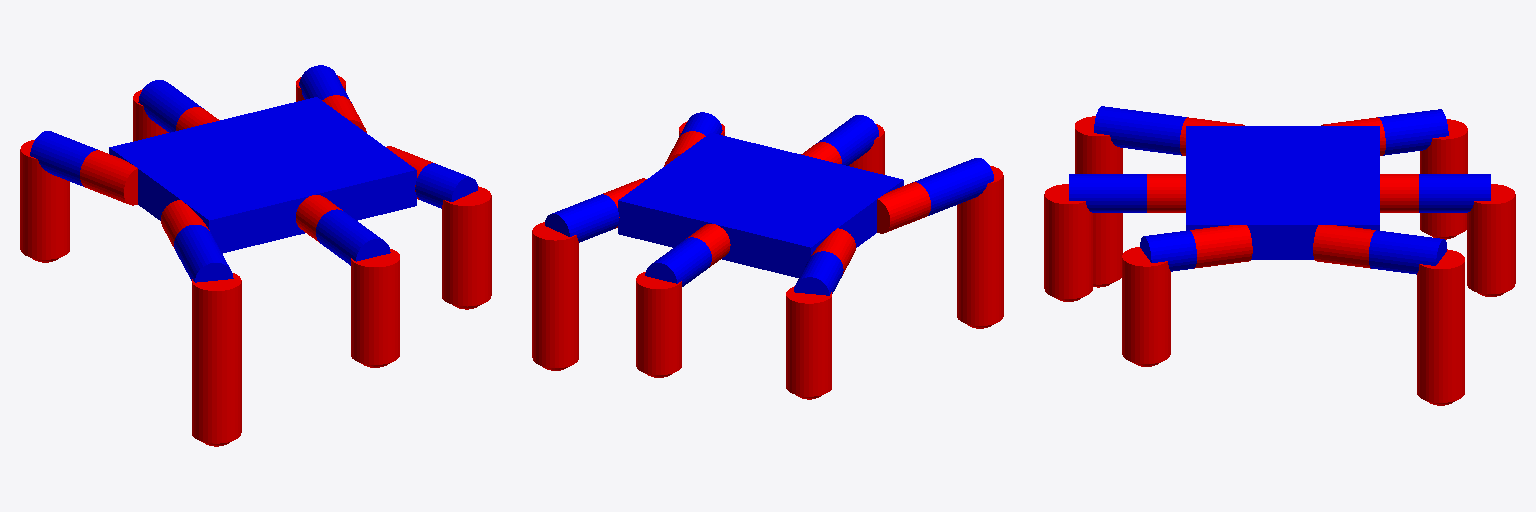
--- What the picture shows (computed from the rendered views, not written in the file) ---
The picture shows the robot from 3 angles, left to right: view 1: azimuth 30°, elevation 25°; view 2: azimuth 150°, elevation 25°; view 3: azimuth 270°, elevation 25°; orthographic projection.
Model pexod with 19 links and 18 joints (18 revolute), rooted at base_link, posed all joints at 0.
Links seen in each view (by area): view 1: base_link, leg_5_3, leg_3_3, leg_4_3, leg_0_3, leg_4_2, leg_5_2, leg_0_1, leg_0_2, leg_3_2, leg_1_2, leg_2_2 (+5 smaller); view 2: base_link, leg_2_3, leg_5_3, leg_0_3, leg_1_3, leg_5_2, leg_2_2, leg_1_2, leg_5_1, leg_4_2, leg_0_2, leg_0_1 (+3 smaller); view 3: base_link, leg_2_3, leg_3_3, leg_4_3, leg_1_3, leg_5_3, leg_5_2, leg_0_3, leg_4_2, leg_2_2, leg_1_2, leg_0_2 (+5 smaller).
Link boxes in pixels (bbox=[...]): base_link: bbox=[109, 97, 416, 253]; leg_5_3: bbox=[192, 273, 241, 446]; leg_3_3: bbox=[442, 186, 491, 309]; leg_4_3: bbox=[351, 249, 399, 367]; leg_0_3: bbox=[20, 140, 69, 262]; leg_4_2: bbox=[316, 209, 390, 265]; leg_5_2: bbox=[174, 225, 233, 282]; leg_0_1: bbox=[80, 150, 137, 205]; leg_0_2: bbox=[30, 131, 97, 186]; leg_3_2: bbox=[415, 163, 477, 208]; leg_1_2: bbox=[138, 80, 203, 132]; leg_2_2: bbox=[299, 65, 351, 102]; base_link: bbox=[618, 133, 903, 277]; leg_2_3: bbox=[532, 222, 578, 370]; leg_5_3: bbox=[957, 166, 1003, 328]; leg_0_3: bbox=[786, 286, 831, 399]; leg_1_3: bbox=[636, 272, 681, 377]; leg_5_2: bbox=[912, 158, 993, 215]; leg_2_2: bbox=[545, 194, 618, 242]; leg_1_2: bbox=[645, 237, 711, 286]; leg_5_1: bbox=[877, 182, 930, 233]; leg_4_2: bbox=[816, 115, 878, 165]; leg_0_2: bbox=[794, 251, 843, 295]; leg_0_1: bbox=[811, 228, 855, 275]; base_link: bbox=[1186, 126, 1379, 259]; leg_2_3: bbox=[1417, 249, 1464, 405]; leg_3_3: bbox=[1122, 247, 1170, 366]; leg_4_3: bbox=[1044, 184, 1092, 301]; leg_1_3: bbox=[1467, 184, 1515, 296]; leg_5_3: bbox=[1075, 116, 1122, 287]; leg_5_2: bbox=[1094, 106, 1186, 155]; leg_0_3: bbox=[1420, 119, 1467, 239]; leg_4_2: bbox=[1069, 174, 1146, 212]; leg_2_2: bbox=[1369, 230, 1446, 274]; leg_1_2: bbox=[1419, 174, 1490, 212]; leg_0_2: bbox=[1378, 109, 1448, 155].
Bounding box of the posed robot: 0.3742 × 0.4855 × 0.2009 m (x, y, z).
Geometry: primitives only (box / cylinder / sphere), no mesh files.

URDF robot description (pexod):
<?xml version="1.0" ?>
<!-- =================================================================================== -->
<!-- |    This document was autogenerated by xacro from pexod.xacro                    | -->
<!-- |    EDITING THIS FILE BY HAND IS NOT RECOMMENDED                                 | -->
<!-- =================================================================================== -->
<robot name="pexod" xmlns:xacro="http://www.ros.org/wiki/xacro">
  <!-- <xacro:include filename="$(find pexod_description)/urdf/pexod_control.xacro" /> -->
  <!-- MATERIALS -->
  <material name="Blue">
    <color rgba="0 0 1 1"/>
  </material>
  <material name="Red">
    <color rgba="1 0 0 1"/>
  </material>
  <material name="Green">
    <color rgba="0 1 0 1"/>
  </material>
  <material name="Yellow">
    <color rgba="1 1 0 1"/>
  </material>
  <material name="LightGrey">
    <color rgba="0.6 0.6 0.6 1.0"/>
  </material>
  <!-- END OF MATERIALS -->
  <!-- XACRO MACROS FOR VISUALS AND COLLISIONS -->
  <!-- END OF XACRO MACROS -->
  <!-- TORSO -->
  <link name="base_link">
    <visual>
      <origin rpy="0 0 0" xyz="0 0 0"/>
      <geometry>
        <box size="0.24 0.2 0.04"/>
      </geometry>
      <material name="Blue"/>
    </visual>
    <collision>
      <origin rpy="0 0 0" xyz="0 0 0"/>
      <geometry>
        <box size="0.24 0.2 0.04"/>
      </geometry>
    </collision>
    <inertial>
      <!-- CENTER OF MASS -->
      <origin rpy="0 0 0" xyz="0 0 0"/>
      <mass value="1.031"/>
      <!-- box inertia: 1/12*m(y^2+z^2), ... -->
      <inertia ixx="0.00357413333333" ixy="0" ixz="0" iyy="0.00508626666667" iyz="0" izz="0.00838546666667"/>
    </inertial>
  </link>
  <!-- XACRO MACRO FOR LEGS LINKS/JOINTS -->
  <!-- END OF LEG LINKS/JOINTS -->
  <joint name="body_leg_2" type="revolute">
    <parent link="base_link"/>
    <child link="leg_2_1"/>
    <limit effort="30.0" lower="-1.57079632679" upper="1.57079632679" velocity="7.0"/>
    <origin rpy="0 0 -0.3" xyz="0.11 0.04 0"/>
    <!-- <xacro:if value="${index == 5 or index == 4 or index == 3}">
                <axis xyz="0 0 1"/>
            </xacro:if>
            <xacro:if value="${index == 2 or index == 1 or index == 0}"> -->
    <axis xyz="0 0 1"/>
    <!-- </xacro:if> -->
    <dynamics damping="0.0"/>
  </joint>
  <link name="leg_2_1">
    <visual>
      <origin rpy="1.57079632679 0 0" xyz="0.01 0.03 0"/>
      <geometry>
        <cylinder length="0.06" radius="0.02"/>
      </geometry>
      <material name="Red"/>
    </visual>
    <collision>
      <origin rpy="1.57079632679 0 0" xyz="0.01 0.03 0"/>
      <geometry>
        <box size="0.02 0.02 0.06"/>
      </geometry>
    </collision>
    <inertial>
      <!-- CENTER OF MASS -->
      <origin rpy="1.57079632679 0 0" xyz="0.01 0.03 0"/>
      <mass value="0.02"/>
      <!-- box inertia: 1/12*m(y^2+z^2), ... -->
      <inertia ixx="6.66666666667e-06" ixy="0" ixz="0" iyy="6.66666666667e-06" iyz="0" izz="1.33333333333e-06"/>
    </inertial>
  </link>
  <joint name="leg_2_1_2" type="revolute">
    <parent link="leg_2_1"/>
    <child link="leg_2_2"/>
    <limit effort="30.0" lower="-0.78539816339" upper="0.78539816339" velocity="7.0"/>
    <origin rpy="0 0 0" xyz="0 0.06 0"/>
    <axis xyz="1 0 0"/>
    <dynamics damping="0.0"/>
  </joint>
  <link name="leg_2_2">
    <visual>
      <origin rpy="1.57079632679 0 0" xyz="0.01 0.0363041409389 0"/>
      <geometry>
        <cylinder length="0.0726082818779" radius="0.02"/>
      </geometry>
      <material name="Blue"/>
    </visual>
    <collision>
      <origin rpy="1.57079632679 0 0" xyz="0.01 0.0363041409389 0"/>
      <geometry>
        <box size="0.02 0.02 0.0726082818779"/>
      </geometry>
    </collision>
    <inertial>
      <!-- CENTER OF MASS -->
      <origin rpy="1.57079632679 0 0" xyz="0.01 0.0363041409389 0"/>
      <mass value="0.184"/>
      <!-- box inertia: 1/12*m(y^2+z^2), ... -->
      <inertia ixx="8.6970093158e-05" ixy="0" ixz="0" iyy="8.6970093158e-05" iyz="0" izz="1.22666666667e-05"/>
    </inertial>
  </link>
  <joint name="leg_2_2_3" type="revolute">
    <parent link="leg_2_2"/>
    <child link="leg_2_3"/>
    <limit effort="30.0" lower="-0.78539816339" upper="0.78539816339" velocity="7.0"/>
    <origin rpy="-1.57079632679 0 0" xyz="0 0.0726082818779 0"/>
    <axis xyz="-1 0 0"/>
    <dynamics damping="0.0"/>
  </joint>
  <link name="leg_2_3">
    <visual>
      <origin rpy="1.57079632679 0 0" xyz="0.0125 0.0758680258845 0"/>
      <geometry>
        <cylinder length="0.151736051769" radius="0.025"/>
      </geometry>
      <material name="Red"/>
    </visual>
    <visual>
      <origin rpy="1.57079632679 0 0" xyz="0.0125 0.139236051769 0"/>
      <geometry>
        <sphere radius="0.025"/>
      </geometry>
      <material name="Red"/>
    </visual>
    <collision>
      <origin rpy="1.57079632679 0 0" xyz="0.0125 0.0758680258845 0"/>
      <geometry>
        <box size="0.025 0.025 0.151736051769"/>
      </geometry>
    </collision>
    <collision>
      <origin rpy="1.57079632679 0 0" xyz="0.0125 0.139236051769 0"/>
      <geometry>
        <sphere radius="0.025"/>
      </geometry>
      <material name="Red"/>
    </collision>
    <inertial>
      <!-- CENTER OF MASS -->
      <origin rpy="1.57079632679 0 0" xyz="0.0125 0.0758680258845 0"/>
      <mass value="0.04"/>
      <!-- box inertia: 1/12*m(y^2+z^2), ... -->
      <inertia ixx="7.88294313548e-05" ixy="0" ixz="0" iyy="7.88294313548e-05" iyz="0" izz="4.16666666667e-06"/>
    </inertial>
  </link>
  <joint name="body_leg_3" type="revolute">
    <parent link="base_link"/>
    <child link="leg_3_1"/>
    <limit effort="30.0" lower="-1.57079632679" upper="1.57079632679" velocity="7.0"/>
    <origin rpy="0 0 0.3" xyz="0.11 -0.04 0"/>
    <!-- <xacro:if value="${index == 5 or index == 4 or index == 3}">
                <axis xyz="0 0 1"/>
            </xacro:if>
            <xacro:if value="${index == 2 or index == 1 or index == 0}"> -->
    <axis xyz="0 0 1"/>
    <!-- </xacro:if> -->
    <dynamics damping="0.0"/>
  </joint>
  <link name="leg_3_1">
    <visual>
      <origin rpy="1.57079632679 0 0" xyz="0.01 -0.03 0"/>
      <geometry>
        <cylinder length="0.06" radius="0.02"/>
      </geometry>
      <material name="Red"/>
    </visual>
    <collision>
      <origin rpy="1.57079632679 0 0" xyz="0.01 -0.03 0"/>
      <geometry>
        <box size="0.02 0.02 0.06"/>
      </geometry>
    </collision>
    <inertial>
      <!-- CENTER OF MASS -->
      <origin rpy="1.57079632679 0 0" xyz="0.01 -0.03 0"/>
      <mass value="0.02"/>
      <!-- box inertia: 1/12*m(y^2+z^2), ... -->
      <inertia ixx="6.66666666667e-06" ixy="0" ixz="0" iyy="6.66666666667e-06" iyz="0" izz="1.33333333333e-06"/>
    </inertial>
  </link>
  <joint name="leg_3_1_2" type="revolute">
    <parent link="leg_3_1"/>
    <child link="leg_3_2"/>
    <limit effort="30.0" lower="-0.78539816339" upper="0.78539816339" velocity="7.0"/>
    <origin rpy="0 0 0" xyz="0 -0.06 0"/>
    <axis xyz="-1 0 0"/>
    <dynamics damping="0.0"/>
  </joint>
  <link name="leg_3_2">
    <visual>
      <origin rpy="1.57079632679 0 0" xyz="0.01 -0.0244976712076 0"/>
      <geometry>
        <cylinder length="0.0489953424151" radius="0.02"/>
      </geometry>
      <material name="Blue"/>
    </visual>
    <collision>
      <origin rpy="1.57079632679 0 0" xyz="0.01 -0.0244976712076 0"/>
      <geometry>
        <box size="0.02 0.02 0.0489953424151"/>
      </geometry>
    </collision>
    <inertial>
      <!-- CENTER OF MASS -->
      <origin rpy="1.57079632679 0 0" xyz="0.01 -0.0244976712076 0"/>
      <mass value="0.184"/>
      <!-- box inertia: 1/12*m(y^2+z^2), ... -->
      <inertia ixx="4.29416682017e-05" ixy="0" ixz="0" iyy="4.29416682017e-05" iyz="0" izz="1.22666666667e-05"/>
    </inertial>
  </link>
  <joint name="leg_3_2_3" type="revolute">
    <parent link="leg_3_2"/>
    <child link="leg_3_3"/>
    <limit effort="30.0" lower="-0.78539816339" upper="0.78539816339" velocity="7.0"/>
    <origin rpy="1.57079632679 0 0" xyz="0 -0.0489953424151 0"/>
    <axis xyz="1 0 0"/>
    <dynamics damping="0.0"/>
  </joint>
  <link name="leg_3_3">
    <visual>
      <origin rpy="1.57079632679 0 0" xyz="0.0125 -0.055430716345 0"/>
      <geometry>
        <cylinder length="0.11086143269" radius="0.025"/>
      </geometry>
      <material name="Red"/>
    </visual>
    <visual>
      <origin rpy="1.57079632679 0 0" xyz="0.0125 -0.09836143269 0"/>
      <geometry>
        <sphere radius="0.025"/>
      </geometry>
      <material name="Red"/>
    </visual>
    <collision>
      <origin rpy="1.57079632679 0 0" xyz="0.0125 -0.055430716345 0"/>
      <geometry>
        <box size="0.025 0.025 0.11086143269"/>
      </geometry>
    </collision>
    <collision>
      <origin rpy="1.57079632679 0 0" xyz="0.0125 -0.09836143269 0"/>
      <geometry>
        <sphere radius="0.025"/>
      </geometry>
      <material name="Red"/>
    </collision>
    <inertial>
      <!-- CENTER OF MASS -->
      <origin rpy="1.57079632679 0 0" xyz="0.0125 -0.055430716345 0"/>
      <mass value="0.04"/>
      <!-- box inertia: 1/12*m(y^2+z^2), ... -->
      <inertia ixx="4.30508575269e-05" ixy="0" ixz="0" iyy="4.30508575269e-05" iyz="0" izz="4.16666666667e-06"/>
    </inertial>
  </link>
  <joint name="body_leg_0" type="revolute">
    <parent link="base_link"/>
    <child link="leg_0_1"/>
    <limit effort="30.0" lower="-1.57079632679" upper="1.57079632679" velocity="7.0"/>
    <origin rpy="0 0 0.3" xyz="-0.13 0.04 0"/>
    <!-- <xacro:if value="${index == 5 or index == 4 or index == 3}">
                <axis xyz="0 0 1"/>
            </xacro:if>
            <xacro:if value="${index == 2 or index == 1 or index == 0}"> -->
    <axis xyz="0 0 1"/>
    <!-- </xacro:if> -->
    <dynamics damping="0.0"/>
  </joint>
  <link name="leg_0_1">
    <visual>
      <origin rpy="1.57079632679 0 0" xyz="0.01 0.03 0"/>
      <geometry>
        <cylinder length="0.06" radius="0.02"/>
      </geometry>
      <material name="Red"/>
    </visual>
    <collision>
      <origin rpy="1.57079632679 0 0" xyz="0.01 0.03 0"/>
      <geometry>
        <box size="0.02 0.02 0.06"/>
      </geometry>
    </collision>
    <inertial>
      <!-- CENTER OF MASS -->
      <origin rpy="1.57079632679 0 0" xyz="0.01 0.03 0"/>
      <mass value="0.02"/>
      <!-- box inertia: 1/12*m(y^2+z^2), ... -->
      <inertia ixx="6.66666666667e-06" ixy="0" ixz="0" iyy="6.66666666667e-06" iyz="0" izz="1.33333333333e-06"/>
    </inertial>
  </link>
  <joint name="leg_0_1_2" type="revolute">
    <parent link="leg_0_1"/>
    <child link="leg_0_2"/>
    <limit effort="30.0" lower="-0.78539816339" upper="0.78539816339" velocity="7.0"/>
    <origin rpy="0 0 0" xyz="0 0.06 0"/>
    <axis xyz="1 0 0"/>
    <dynamics damping="0.0"/>
  </joint>
  <link name="leg_0_2">
    <visual>
      <origin rpy="1.57079632679 0 0" xyz="0.01 0.0338924185121 0"/>
      <geometry>
        <cylinder length="0.0677848370243" radius="0.02"/>
      </geometry>
      <material name="Blue"/>
    </visual>
    <collision>
      <origin rpy="1.57079632679 0 0" xyz="0.01 0.0338924185121 0"/>
      <geometry>
        <box size="0.02 0.02 0.0677848370243"/>
      </geometry>
    </collision>
    <inertial>
      <!-- CENTER OF MASS -->
      <origin rpy="1.57079632679 0 0" xyz="0.01 0.0338924185121 0"/>
      <mass value="0.184"/>
      <!-- box inertia: 1/12*m(y^2+z^2), ... -->
      <inertia ixx="7.65866899996e-05" ixy="0" ixz="0" iyy="7.65866899996e-05" iyz="0" izz="1.22666666667e-05"/>
    </inertial>
  </link>
  <joint name="leg_0_2_3" type="revolute">
    <parent link="leg_0_2"/>
    <child link="leg_0_3"/>
    <limit effort="30.0" lower="-0.78539816339" upper="0.78539816339" velocity="7.0"/>
    <origin rpy="-1.57079632679 0 0" xyz="0 0.0677848370243 0"/>
    <axis xyz="-1 0 0"/>
    <dynamics damping="0.0"/>
  </joint>
  <link name="leg_0_3">
    <visual>
      <origin rpy="1.57079632679 0 0" xyz="0.0125 0.055295891619 0"/>
      <geometry>
        <cylinder length="0.110591783238" radius="0.025"/>
      </geometry>
      <material name="Red"/>
    </visual>
    <visual>
      <origin rpy="1.57079632679 0 0" xyz="0.0125 0.098091783238 0"/>
      <geometry>
        <sphere radius="0.025"/>
      </geometry>
      <material name="Red"/>
    </visual>
    <collision>
      <origin rpy="1.57079632679 0 0" xyz="0.0125 0.055295891619 0"/>
      <geometry>
        <box size="0.025 0.025 0.110591783238"/>
      </geometry>
    </collision>
    <collision>
      <origin rpy="1.57079632679 0 0" xyz="0.0125 0.098091783238 0"/>
      <geometry>
        <sphere radius="0.025"/>
      </geometry>
      <material name="Red"/>
    </collision>
    <inertial>
      <!-- CENTER OF MASS -->
      <origin rpy="1.57079632679 0 0" xyz="0.0125 0.055295891619 0"/>
      <mass value="0.04"/>
      <!-- box inertia: 1/12*m(y^2+z^2), ... -->
      <inertia ixx="4.28518083992e-05" ixy="0" ixz="0" iyy="4.28518083992e-05" iyz="0" izz="4.16666666667e-06"/>
    </inertial>
  </link>
  <joint name="body_leg_5" type="revolute">
    <parent link="base_link"/>
    <child link="leg_5_1"/>
    <limit effort="30.0" lower="-1.57079632679" upper="1.57079632679" velocity="7.0"/>
    <origin rpy="0 0 -0.3" xyz="-0.13 -0.04 0"/>
    <!-- <xacro:if value="${index == 5 or index == 4 or index == 3}">
                <axis xyz="0 0 1"/>
            </xacro:if>
            <xacro:if value="${index == 2 or index == 1 or index == 0}"> -->
    <axis xyz="0 0 1"/>
    <!-- </xacro:if> -->
    <dynamics damping="0.0"/>
  </joint>
  <link name="leg_5_1">
    <visual>
      <origin rpy="1.57079632679 0 0" xyz="0.01 -0.03 0"/>
      <geometry>
        <cylinder length="0.06" radius="0.02"/>
      </geometry>
      <material name="Red"/>
    </visual>
    <collision>
      <origin rpy="1.57079632679 0 0" xyz="0.01 -0.03 0"/>
      <geometry>
        <box size="0.02 0.02 0.06"/>
      </geometry>
    </collision>
    <inertial>
      <!-- CENTER OF MASS -->
      <origin rpy="1.57079632679 0 0" xyz="0.01 -0.03 0"/>
      <mass value="0.02"/>
      <!-- box inertia: 1/12*m(y^2+z^2), ... -->
      <inertia ixx="6.66666666667e-06" ixy="0" ixz="0" iyy="6.66666666667e-06" iyz="0" izz="1.33333333333e-06"/>
    </inertial>
  </link>
  <joint name="leg_5_1_2" type="revolute">
    <parent link="leg_5_1"/>
    <child link="leg_5_2"/>
    <limit effort="30.0" lower="-0.78539816339" upper="0.78539816339" velocity="7.0"/>
    <origin rpy="0 0 0" xyz="0 -0.06 0"/>
    <axis xyz="-1 0 0"/>
    <dynamics damping="0.0"/>
  </joint>
  <link name="leg_5_2">
    <visual>
      <origin rpy="1.57079632679 0 0" xyz="0.01 -0.0464353477643 0"/>
      <geometry>
        <cylinder length="0.0928706955286" radius="0.02"/>
      </geometry>
      <material name="Blue"/>
    </visual>
    <collision>
      <origin rpy="1.57079632679 0 0" xyz="0.01 -0.0464353477643 0"/>
      <geometry>
        <box size="0.02 0.02 0.0928706955286"/>
      </geometry>
    </collision>
    <inertial>
      <!-- CENTER OF MASS -->
      <origin rpy="1.57079632679 0 0" xyz="0.01 -0.0464353477643 0"/>
      <mass value="0.184"/>
      <!-- box inertia: 1/12*m(y^2+z^2), ... -->
      <inertia ixx="0.000138382813349" ixy="0" ixz="0" iyy="0.000138382813349" iyz="0" izz="1.22666666667e-05"/>
    </inertial>
  </link>
  <joint name="leg_5_2_3" type="revolute">
    <parent link="leg_5_2"/>
    <child link="leg_5_3"/>
    <limit effort="30.0" lower="-0.78539816339" upper="0.78539816339" velocity="7.0"/>
    <origin rpy="1.57079632679 0 0" xyz="0 -0.0928706955286 0"/>
    <axis xyz="1 0 0"/>
    <dynamics damping="0.0"/>
  </joint>
  <link name="leg_5_3">
    <visual>
      <origin rpy="1.57079632679 0 0" xyz="0.0125 -0.084187610104 0"/>
      <geometry>
        <cylinder length="0.168375220208" radius="0.025"/>
      </geometry>
      <material name="Red"/>
    </visual>
    <visual>
      <origin rpy="1.57079632679 0 0" xyz="0.0125 -0.155875220208 0"/>
      <geometry>
        <sphere radius="0.025"/>
      </geometry>
      <material name="Red"/>
    </visual>
    <collision>
      <origin rpy="1.57079632679 0 0" xyz="0.0125 -0.084187610104 0"/>
      <geometry>
        <box size="0.025 0.025 0.168375220208"/>
      </geometry>
    </collision>
    <collision>
      <origin rpy="1.57079632679 0 0" xyz="0.0125 -0.155875220208 0"/>
      <geometry>
        <sphere radius="0.025"/>
      </geometry>
      <material name="Red"/>
    </collision>
    <inertial>
      <!-- CENTER OF MASS -->
      <origin rpy="1.57079632679 0 0" xyz="0.0125 -0.084187610104 0"/>
      <mass value="0.04"/>
      <!-- box inertia: 1/12*m(y^2+z^2), ... -->
      <inertia ixx="9.6584049267e-05" ixy="0" ixz="0" iyy="9.6584049267e-05" iyz="0" izz="4.16666666667e-06"/>
    </inertial>
  </link>
  <joint name="body_leg_1" type="revolute">
    <parent link="base_link"/>
    <child link="leg_1_1"/>
    <limit effort="30.0" lower="-1.57079632679" upper="1.57079632679" velocity="7.0"/>
    <origin rpy="0 0 0" xyz="-0.01 0.08 0"/>
    <!-- <xacro:if value="${index == 5 or index == 4 or index == 3}">
                <axis xyz="0 0 1"/>
            </xacro:if>
            <xacro:if value="${index == 2 or index == 1 or index == 0}"> -->
    <axis xyz="0 0 1"/>
    <!-- </xacro:if> -->
    <dynamics damping="0.0"/>
  </joint>
  <link name="leg_1_1">
    <visual>
      <origin rpy="1.57079632679 0 0" xyz="0.01 0.03 0"/>
      <geometry>
        <cylinder length="0.06" radius="0.02"/>
      </geometry>
      <material name="Red"/>
    </visual>
    <collision>
      <origin rpy="1.57079632679 0 0" xyz="0.01 0.03 0"/>
      <geometry>
        <box size="0.02 0.02 0.06"/>
      </geometry>
    </collision>
    <inertial>
      <!-- CENTER OF MASS -->
      <origin rpy="1.57079632679 0 0" xyz="0.01 0.03 0"/>
      <mass value="0.02"/>
      <!-- box inertia: 1/12*m(y^2+z^2), ... -->
      <inertia ixx="6.66666666667e-06" ixy="0" ixz="0" iyy="6.66666666667e-06" iyz="0" izz="1.33333333333e-06"/>
    </inertial>
  </link>
  <joint name="leg_1_1_2" type="revolute">
    <parent link="leg_1_1"/>
    <child link="leg_1_2"/>
    <limit effort="30.0" lower="-0.78539816339" upper="0.78539816339" velocity="7.0"/>
    <origin rpy="0 0 0" xyz="0 0.06 0"/>
    <axis xyz="1 0 0"/>
    <dynamics damping="0.0"/>
  </joint>
  <link name="leg_1_2">
    <visual>
      <origin rpy="1.57079632679 0 0" xyz="0.01 0.0373899459018 0"/>
      <geometry>
        <cylinder length="0.0747798918035" radius="0.02"/>
      </geometry>
      <material name="Blue"/>
    </visual>
    <collision>
      <origin rpy="1.57079632679 0 0" xyz="0.01 0.0373899459018 0"/>
      <geometry>
        <box size="0.02 0.02 0.0747798918035"/>
      </geometry>
    </collision>
    <inertial>
      <!-- CENTER OF MASS -->
      <origin rpy="1.57079632679 0 0" xyz="0.01 0.0373899459018 0"/>
      <mass value="0.184"/>
      <!-- box inertia: 1/12*m(y^2+z^2), ... -->
      <inertia ixx="9.18778273449e-05" ixy="0" ixz="0" iyy="9.18778273449e-05" iyz="0" izz="1.22666666667e-05"/>
    </inertial>
  </link>
  <joint name="leg_1_2_3" type="revolute">
    <parent link="leg_1_2"/>
    <child link="leg_1_3"/>
    <limit effort="30.0" lower="-0.78539816339" upper="0.78539816339" velocity="7.0"/>
    <origin rpy="-1.57079632679 0 0" xyz="0 0.0747798918035 0"/>
    <axis xyz="-1 0 0"/>
    <dynamics damping="0.0"/>
  </joint>
  <link name="leg_1_3">
    <visual>
      <origin rpy="1.57079632679 0 0" xyz="0.0125 0.0511079228965 0"/>
      <geometry>
        <cylinder length="0.102215845793" radius="0.025"/>
      </geometry>
      <material name="Red"/>
    </visual>
    <visual>
      <origin rpy="1.57079632679 0 0" xyz="0.0125 0.089715845793 0"/>
      <geometry>
        <sphere radius="0.025"/>
      </geometry>
      <material name="Red"/>
    </visual>
    <collision>
      <origin rpy="1.57079632679 0 0" xyz="0.0125 0.0511079228965 0"/>
      <geometry>
        <box size="0.025 0.025 0.102215845793"/>
      </geometry>
    </collision>
    <collision>
      <origin rpy="1.57079632679 0 0" xyz="0.0125 0.089715845793 0"/>
      <geometry>
        <sphere radius="0.025"/>
      </geometry>
      <material name="Red"/>
    </collision>
    <inertial>
      <!-- CENTER OF MASS -->
      <origin rpy="1.57079632679 0 0" xyz="0.0125 0.0511079228965 0"/>
      <mass value="0.04"/>
      <!-- box inertia: 1/12*m(y^2+z^2), ... -->
      <inertia ixx="3.69102637706e-05" ixy="0" ixz="0" iyy="3.69102637706e-05" iyz="0" izz="4.16666666667e-06"/>
    </inertial>
  </link>
  <joint name="body_leg_4" type="revolute">
    <parent link="base_link"/>
    <child link="leg_4_1"/>
    <limit effort="30.0" lower="-1.57079632679" upper="1.57079632679" velocity="7.0"/>
    <origin rpy="0 0 0" xyz="-0.01 -0.08 0"/>
    <!-- <xacro:if value="${index == 5 or index == 4 or index == 3}">
                <axis xyz="0 0 1"/>
            </xacro:if>
            <xacro:if value="${index == 2 or index == 1 or index == 0}"> -->
    <axis xyz="0 0 1"/>
    <!-- </xacro:if> -->
    <dynamics damping="0.0"/>
  </joint>
  <link name="leg_4_1">
    <visual>
      <origin rpy="1.57079632679 0 0" xyz="0.01 -0.03 0"/>
      <geometry>
        <cylinder length="0.06" radius="0.02"/>
      </geometry>
      <material name="Red"/>
    </visual>
    <collision>
      <origin rpy="1.57079632679 0 0" xyz="0.01 -0.03 0"/>
      <geometry>
        <box size="0.02 0.02 0.06"/>
      </geometry>
    </collision>
    <inertial>
      <!-- CENTER OF MASS -->
      <origin rpy="1.57079632679 0 0" xyz="0.01 -0.03 0"/>
      <mass value="0.02"/>
      <!-- box inertia: 1/12*m(y^2+z^2), ... -->
      <inertia ixx="6.66666666667e-06" ixy="0" ixz="0" iyy="6.66666666667e-06" iyz="0" izz="1.33333333333e-06"/>
    </inertial>
  </link>
  <joint name="leg_4_1_2" type="revolute">
    <parent link="leg_4_1"/>
    <child link="leg_4_2"/>
    <limit effort="30.0" lower="-0.78539816339" upper="0.78539816339" velocity="7.0"/>
    <origin rpy="0 0 0" xyz="0 -0.06 0"/>
    <axis xyz="-1 0 0"/>
    <dynamics damping="0.0"/>
  </joint>
  <link name="leg_4_2">
    <visual>
      <origin rpy="1.57079632679 0 0" xyz="0.01 -0.0403433626187 0"/>
      <geometry>
        <cylinder length="0.0806867252374" radius="0.02"/>
      </geometry>
      <material name="Blue"/>
    </visual>
    <collision>
      <origin rpy="1.57079632679 0 0" xyz="0.01 -0.0403433626187 0"/>
      <geometry>
        <box size="0.02 0.02 0.0806867252374"/>
      </geometry>
    </collision>
    <inertial>
      <!-- CENTER OF MASS -->
      <origin rpy="1.57079632679 0 0" xyz="0.01 -0.0403433626187 0"/>
      <mass value="0.184"/>
      <!-- box inertia: 1/12*m(y^2+z^2), ... -->
      <inertia ixx="0.000105958663653" ixy="0" ixz="0" iyy="0.000105958663653" iyz="0" izz="1.22666666667e-05"/>
    </inertial>
  </link>
  <joint name="leg_4_2_3" type="revolute">
    <parent link="leg_4_2"/>
    <child link="leg_4_3"/>
    <limit effort="30.0" lower="-0.78539816339" upper="0.78539816339" velocity="7.0"/>
    <origin rpy="1.57079632679 0 0" xyz="0 -0.0806867252374 0"/>
    <axis xyz="1 0 0"/>
    <dynamics damping="0.0"/>
  </joint>
  <link name="leg_4_3">
    <visual>
      <origin rpy="1.57079632679 0 0" xyz="0.0125 -0.0538494778255 0"/>
      <geometry>
        <cylinder length="0.107698955651" radius="0.025"/>
      </geometry>
      <material name="Red"/>
    </visual>
    <visual>
      <origin rpy="1.57079632679 0 0" xyz="0.0125 -0.095198955651 0"/>
      <geometry>
        <sphere radius="0.025"/>
      </geometry>
      <material name="Red"/>
    </visual>
    <collision>
      <origin rpy="1.57079632679 0 0" xyz="0.0125 -0.0538494778255 0"/>
      <geometry>
        <box size="0.025 0.025 0.107698955651"/>
      </geometry>
    </collision>
    <collision>
      <origin rpy="1.57079632679 0 0" xyz="0.0125 -0.095198955651 0"/>
      <geometry>
        <sphere radius="0.025"/>
      </geometry>
      <material name="Red"/>
    </collision>
    <inertial>
      <!-- CENTER OF MASS -->
      <origin rpy="1.57079632679 0 0" xyz="0.0125 -0.0538494778255 0"/>
      <mass value="0.04"/>
      <!-- box inertia: 1/12*m(y^2+z^2), ... -->
      <inertia ixx="4.07468834944e-05" ixy="0" ixz="0" iyy="4.07468834944e-05" iyz="0" izz="4.16666666667e-06"/>
    </inertial>
  </link>
  <!-- END OF LEG LINKS/JOINTS -->
</robot>
